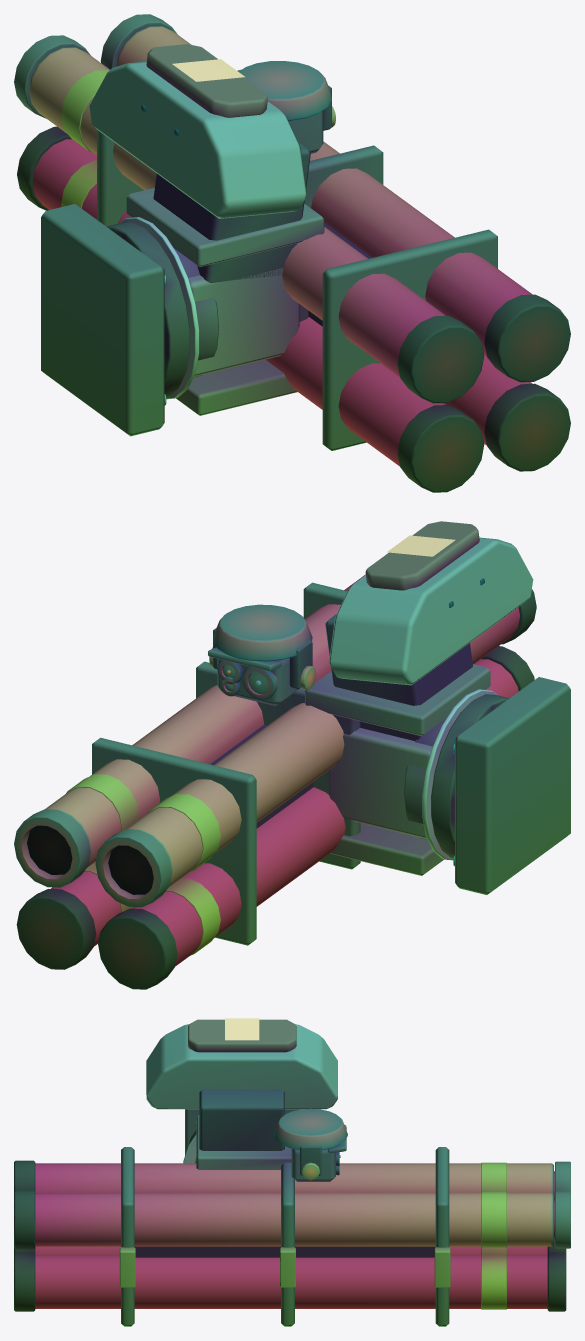
Rendered from arm_rpo93.glb.
3 views of the same model, one above another, from view 1: azimuth 30°, elevation 25°; view 2: azimuth 150°, elevation 25°; view 3: azimuth 270°, elevation 25° (orthographic). The views are drawn at different scales.
Parts seen in each view (by area): view 1: Body__armor_sub, Body__gunmetal, Body__armor, Body__rubber, Body__dark, Body__armor_oxide, Body__accent, Body__chrome, Body__decal, Body__armor_dark; view 2: Body__armor_sub, Body__gunmetal, Body__armor, Body__rubber, Body__dark, Body__accent, Body__armor_oxide, Body__bore, Body__chrome, Body__armor_dark, Body__decal; view 3: Body__armor_sub, Body__armor, Body__gunmetal, Body__dark, Body__rubber, Body__accent, Body__armor_oxide, Body__brass, Body__armor_dark, Body__decal.
Part boxes in pixels (box(x1,y1,x2,y2)): Body__armor_sub: box(29, 26, 532, 466); Body__gunmetal: box(14, 14, 497, 450); Body__armor: box(89, 61, 306, 376); Body__rubber: box(17, 126, 570, 492); Body__dark: box(106, 85, 371, 396); Body__armor_oxide: box(146, 44, 267, 117); Body__accent: box(61, 70, 109, 208); Body__chrome: box(119, 217, 199, 405); Body__decal: box(172, 59, 244, 81); Body__armor_dark: box(288, 110, 323, 153); Body__armor_sub: box(45, 574, 519, 966); Body__gunmetal: box(14, 582, 570, 945); Body__armor: box(329, 537, 533, 839); Body__rubber: box(16, 589, 536, 989); Body__dark: box(210, 578, 508, 858); Body__accent: box(66, 774, 220, 955); Body__armor_oxide: box(365, 521, 479, 590); Body__bore: box(27, 825, 153, 894); Body__chrome: box(422, 689, 497, 866); Body__armor_dark: box(217, 658, 298, 705); Body__decal: box(387, 535, 455, 556); Body__armor_sub: box(35, 1115, 553, 1308); Body__armor: box(146, 1024, 337, 1109); Body__gunmetal: box(121, 1108, 570, 1326); Body__dark: box(134, 1089, 435, 1257); Body__rubber: box(14, 1160, 566, 1311); Body__accent: box(481, 1162, 506, 1309); Body__armor_oxide: box(188, 1019, 296, 1052); Body__brass: box(119, 1162, 554, 1287); Body__armor_dark: box(291, 1149, 335, 1181); Body__decal: box(225, 1018, 259, 1040).
Size of the model in its own units: 0.954 by 0.8922 by 1.95.
